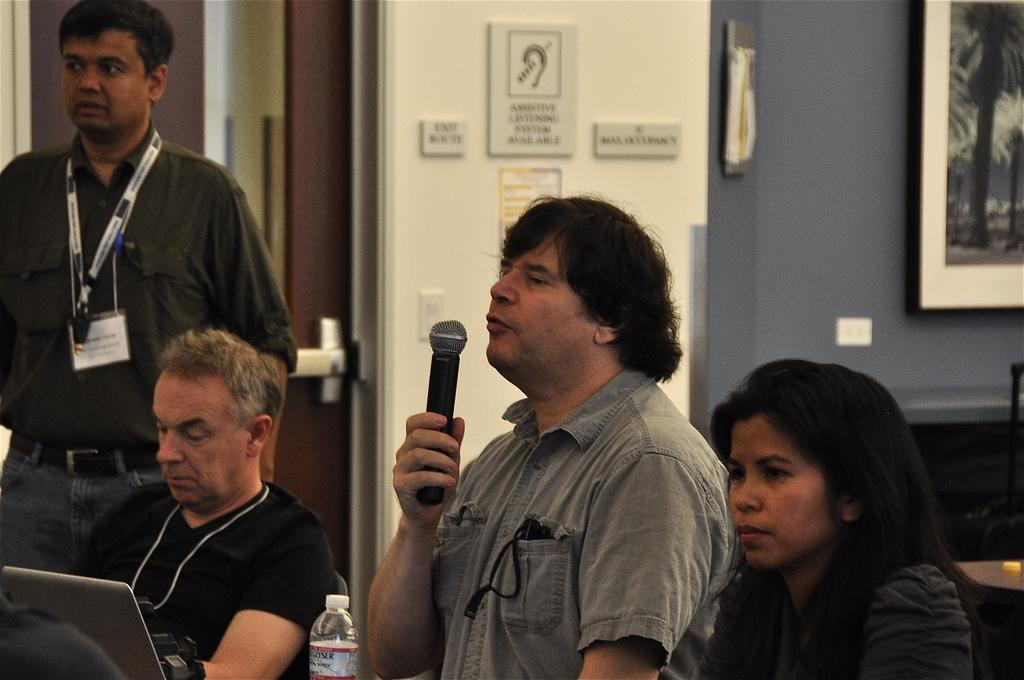Sem Máscara: (726, 409, 839, 560), (481, 235, 589, 367), (150, 376, 251, 502), (58, 28, 147, 128)
